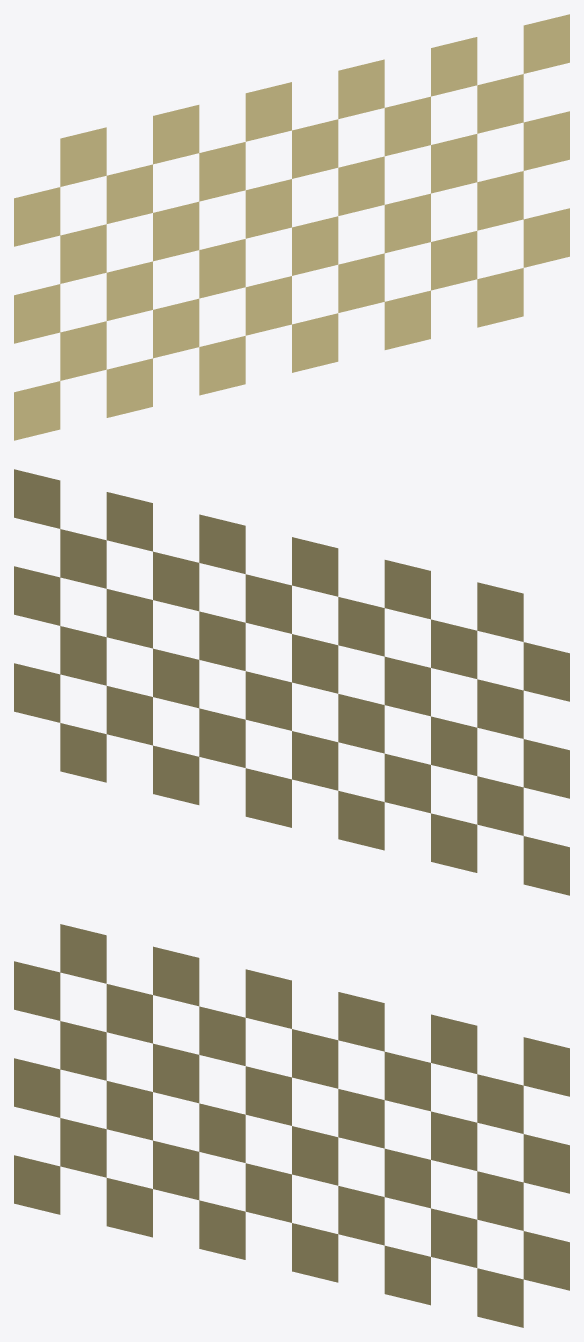
Rendered from pattern-0.gltf.
3 views of the same model, one above another, from view 1: azimuth 30°, elevation 25°; view 2: azimuth 150°, elevation 25°; view 3: azimuth 330°, elevation 25° (orthographic).
Size of the model in its own units: 6.6 by 3.3 by 0.
